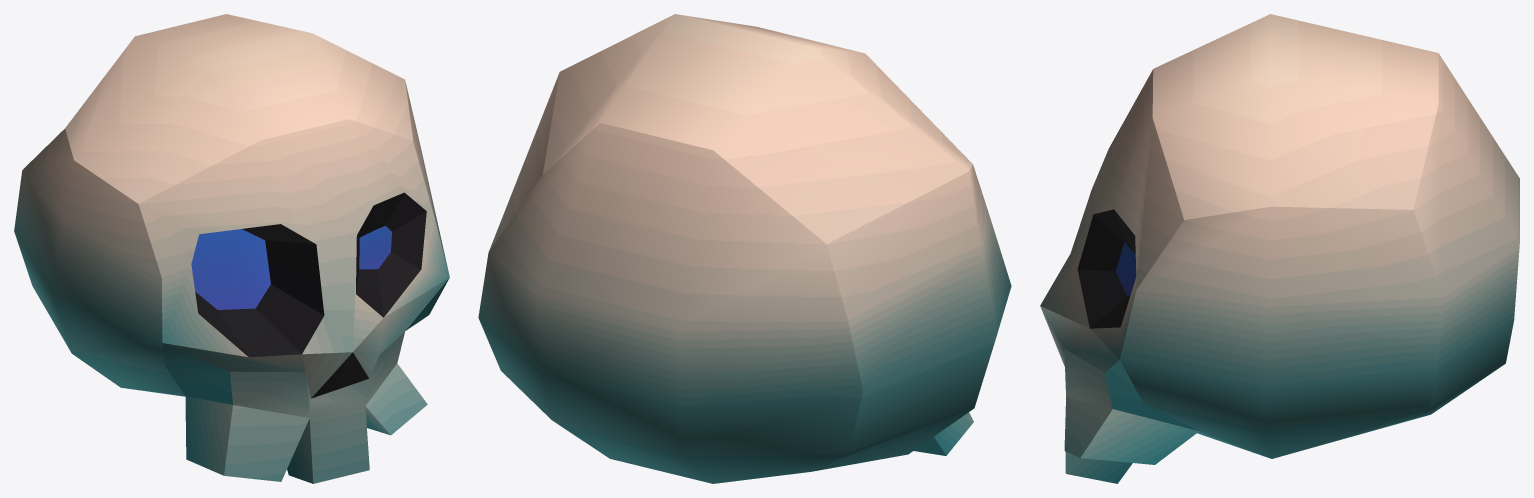
The model's file is Skull_No_Jaw.fbx.
3 views of the same model, side by side, from view 1: azimuth 30°, elevation 25°; view 2: azimuth 150°, elevation 25°; view 3: azimuth 270°, elevation 25° (orthographic). The views are drawn at different scales.
Visible parts, largest first — view 1: pCube22; view 2: pCube22; view 3: pCube22.
Boxes of the visible parts, x1,y1,x2,y2 form: pCube22: [14, 14, 449, 483]; pCube22: [478, 14, 1011, 483]; pCube22: [1040, 14, 1519, 483].
Bounding box in the file's own units: 1.07 × 0.9931 × 1.02.
